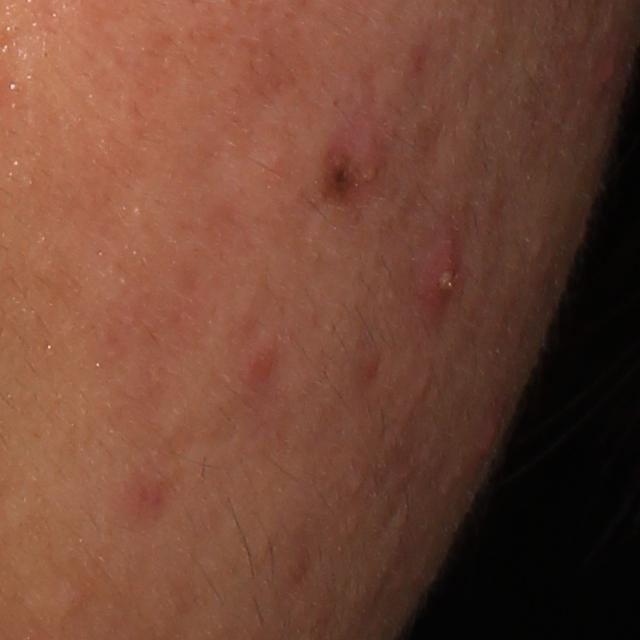papule: (593, 38, 627, 100), (245, 348, 278, 389), (480, 408, 504, 461)
